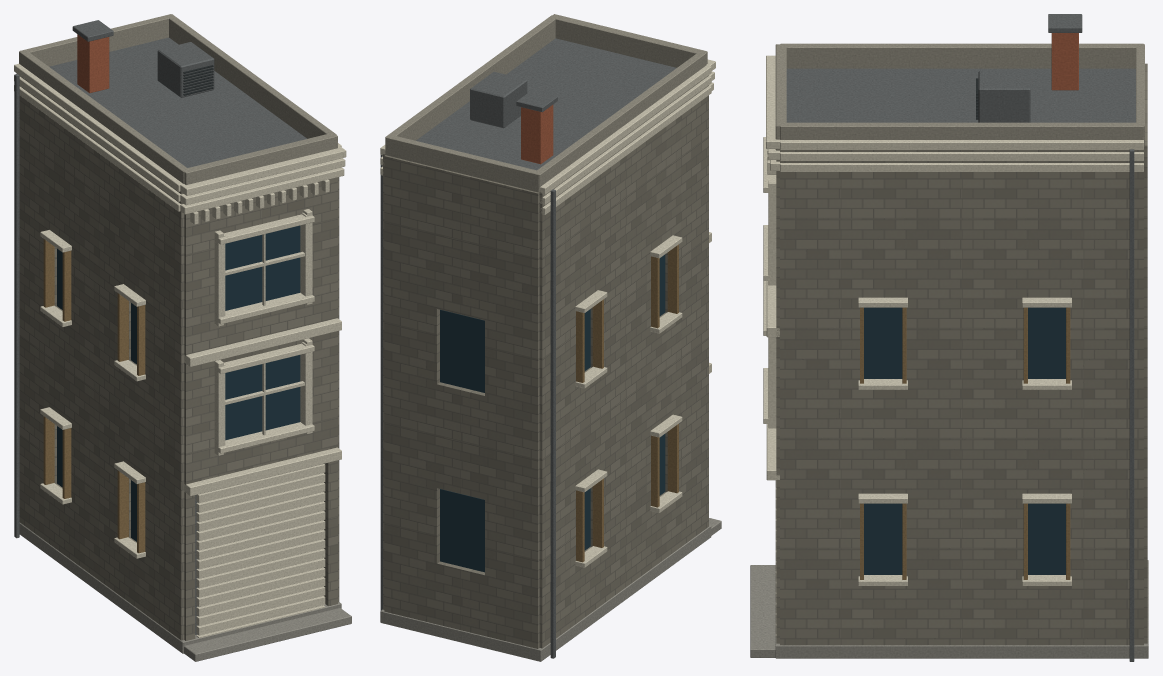
Rendered from VICT32_lod1.glb.
The picture shows the model from 3 angles, left to right: view 1: azimuth 30°, elevation 25°; view 2: azimuth 150°, elevation 25°; view 3: azimuth 270°, elevation 25°; orthographic projection. The views are drawn at different scales.
Parts seen in each view (by area): view 1: VICT32_LOD1; view 2: VICT32_LOD1; view 3: VICT32_LOD1.
Part boxes in pixels (box(x1,y1,x2,y2)): VICT32_LOD1: box(14, 14, 351, 661); VICT32_LOD1: box(380, 14, 721, 661); VICT32_LOD1: box(750, 14, 1148, 661).
Size of the model in its own units: 3.71 by 10.45 by 6.57.
10 materials, 8 textured.
